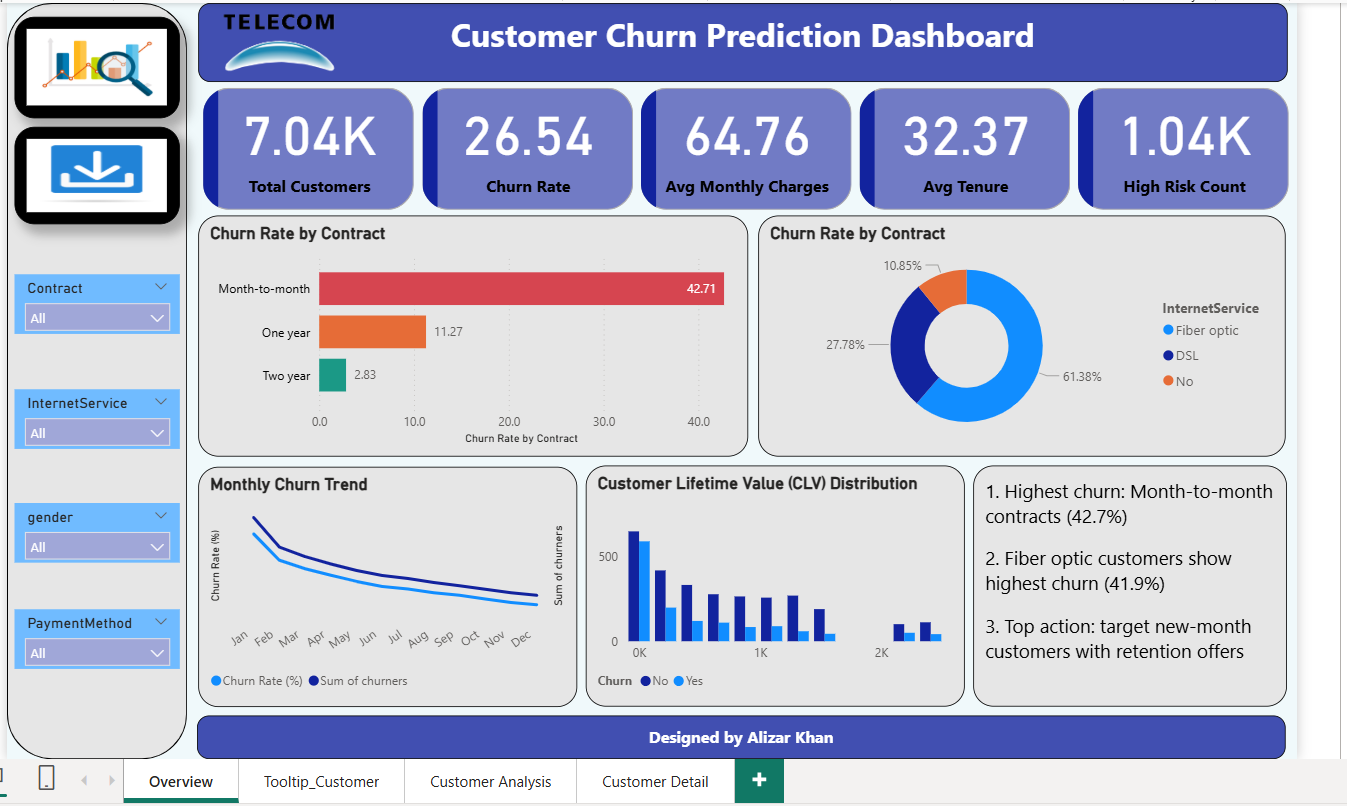

This screenshot's page, from the dashboard's own definition file:
{"tool":"powerbi","page":{"name":"Overview","canvas":[1280,720],"ordinal":0},"visuals":[{"type":"textbox","box":[189.3,0,1081,78.6],"z":0},{"type":"image","box":[207.3,0,100.2,84.9],"z":1000},{"type":"image","box":[36.2,18.1,105.7,98.8],"z":2000},{"type":"image","box":[36.2,125.2,105.7,94.6],"z":3000},{"type":"cardVisual","fields":{"Data":["predictions.Total Customers","predictions.Churn Rate","predictions.Avg Monthly Charges","predictions.Avg Tenure","predictions.High Risk Count"]},"box":[189.3,85.7,1090.5,131],"z":4000},{"type":"clusteredBarChart","title":"Churn Rate by Contract","fields":{"Category":["predictions.Contract"],"Y":["predictions.Churn Rate by Contract"]},"box":[190.1,219.7,544.7,238.9],"z":5000},{"type":"donutChart","title":"Churn Rate by Contract","fields":{"Category":["predictions.InternetService"],"Y":["predictions.Churn Rate"]},"box":[745.6,219.6,523.6,238.9],"z":6000},{"type":"lineChart","title":"Monthly Churn Trend","fields":{"Category":["monthly_trends.month"],"Y2":["Sum(monthly_trends.churners)"],"Y":["monthly_trends.Churn Rate (%)"]},"box":[189.4,469.3,313.7,237.7],"z":7000},{"type":"clusteredColumnChart","title":"Customer Lifetime Value (CLV) Distribution","fields":{"Category":["predictions.Customer CLV (bins)"],"Y":["CountNonNull(predictions.Customer CLV)"],"Series":["predictions.Churn"]},"box":[511.5,469.3,355.9,238.9],"z":8000},{"type":"textbox","box":[875.9,469.3,394.5,238.9],"z":9000},{"type":"shape","box":[0,231,178.6,476.2],"z":10000},{"type":"slicer","fields":{"Values":["predictions.Contract"]},"box":[7.1,269,164.3,59.5],"z":11000},{"type":"slicer","fields":{"Values":["predictions.InternetService"]},"box":[7.1,383.3,164.3,59.5],"z":12000},{"type":"slicer","fields":{"Values":["predictions.gender"]},"box":[7.1,496.4,164.3,59.5],"z":13000},{"type":"slicer","fields":{"Values":["predictions.PaymentMethod"]},"box":[7.1,601.2,164.3,59.5],"z":14000}]}

Visuals, with their boxes on the page's 1280x720 design canvas (x1, y1, x2, y2). These are canvas units, not pixel positions in the 1347x806 screenshot, which may show the page scaled, cropped or inside an application window:
textbox: (x1=189, y1=0, x2=1270, y2=79)
image: (x1=207, y1=0, x2=308, y2=85)
image: (x1=36, y1=18, x2=142, y2=117)
image: (x1=36, y1=125, x2=142, y2=220)
cardVisual - predictions.Total Customers x predictions.Churn Rate: (x1=189, y1=86, x2=1280, y2=217)
"Churn Rate by Contract" clusteredBarChart: (x1=190, y1=220, x2=735, y2=459)
"Churn Rate by Contract" donutChart: (x1=746, y1=220, x2=1269, y2=458)
"Monthly Churn Trend" lineChart: (x1=189, y1=469, x2=503, y2=707)
"Customer Lifetime Value (CLV) Distribution" clusteredColumnChart: (x1=512, y1=469, x2=867, y2=708)
textbox: (x1=876, y1=469, x2=1270, y2=708)
shape: (x1=0, y1=231, x2=179, y2=707)
slicer - predictions.Contract: (x1=7, y1=269, x2=171, y2=328)
slicer - predictions.InternetService: (x1=7, y1=383, x2=171, y2=443)
slicer - predictions.gender: (x1=7, y1=496, x2=171, y2=556)
slicer - predictions.PaymentMethod: (x1=7, y1=601, x2=171, y2=661)
